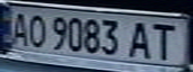0: (66, 15, 84, 53)
3: (100, 17, 127, 56)
8: (81, 16, 103, 55)
9: (45, 14, 69, 52)
A: (127, 19, 157, 58), (6, 9, 33, 47)
O: (24, 11, 48, 48)
T: (145, 20, 184, 61)
